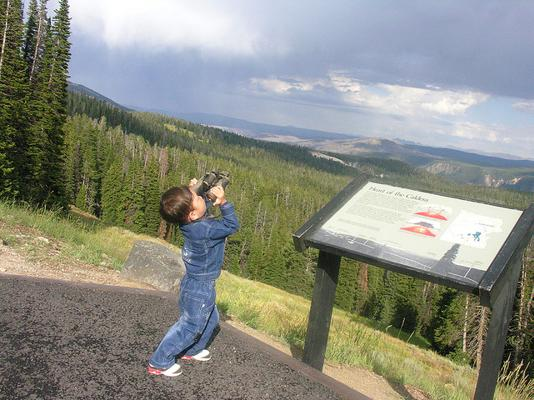person: (150, 177, 239, 379)
